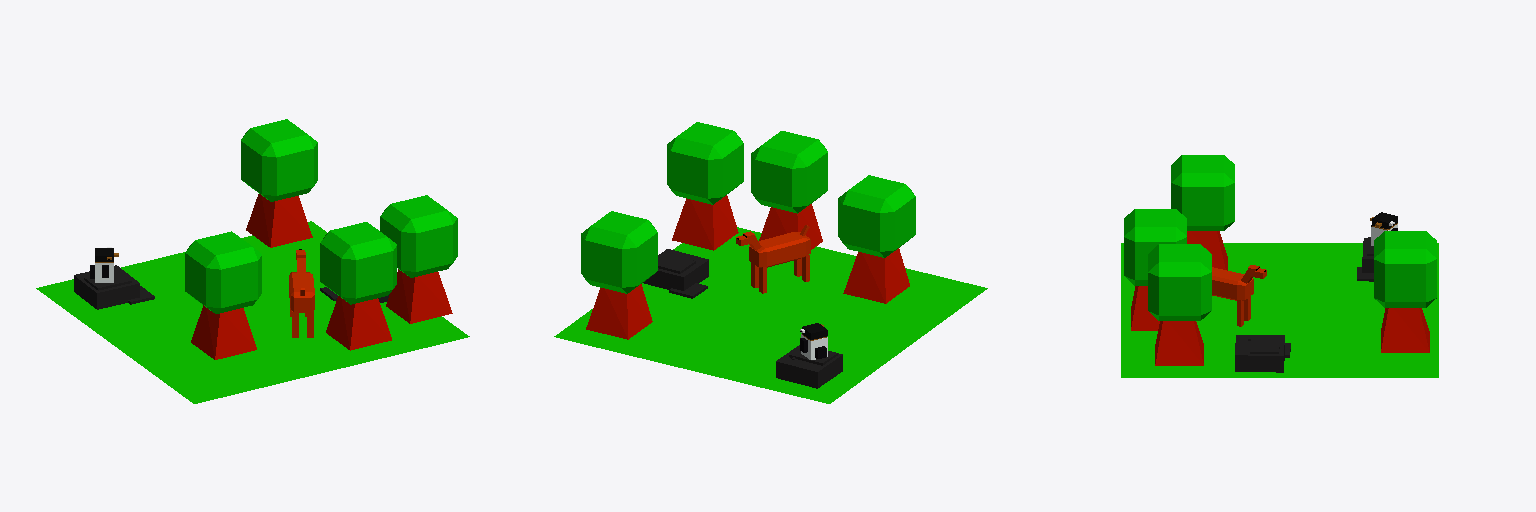
File: Escenario.obj
3 renders of one model, left to right at view 1: azimuth 30°, elevation 25°; view 2: azimuth 150°, elevation 25°; view 3: azimuth 270°, elevation 25°, orthographic.
Parts seen in each view (by area): view 1: Plane, Hojas.003, Hojas.002, Hojas, Hojas.001, Tronco, Tronco.002, Tronco.003, Tronco.001, Cube, CuerpoPerro; view 2: Plane, Hojas, Hojas.001, Hojas.002, Hojas.003, Tronco.002, Tronco, Tronco.001, Cube, Cube.020, CuerpoPerro, Tronco.003; view 3: Plane, Hojas.001, Hojas.002, Hojas, Hojas.003, Tronco.002, Tronco.001, Cube.020, CuerpoPerro, Tronco.003, Tronco.
Part boxes in pixels (x1,y1,x2,y2): Plane: (36, 221, 469, 403); Hojas.003: (320, 222, 396, 304); Hojas.002: (241, 119, 317, 201); Hojas: (185, 231, 261, 313); Hojas.001: (380, 195, 457, 277); Tronco: (191, 305, 256, 359); Tronco.002: (246, 194, 312, 247); Tronco.003: (326, 296, 391, 350); Tronco.001: (386, 269, 452, 323); Cube: (74, 265, 139, 309); CuerpoPerro: (289, 272, 314, 312); Plane: (554, 227, 987, 403); Hojas: (838, 175, 915, 257); Hojas.001: (667, 122, 743, 204); Hojas.002: (581, 211, 657, 293); Hojas.003: (751, 131, 827, 213); Tronco.002: (586, 284, 652, 339); Tronco: (843, 248, 909, 303); Tronco.001: (672, 195, 738, 250); Cube: (776, 345, 842, 388); Cube.020: (643, 249, 708, 290); CuerpoPerro: (749, 232, 810, 267); Tronco.003: (759, 204, 822, 249); Plane: (1121, 243, 1438, 377); Hojas.001: (1148, 244, 1211, 320); Hojas.002: (1374, 231, 1436, 307); Hojas: (1171, 155, 1234, 230); Hojas.003: (1124, 209, 1186, 285); Tronco.002: (1381, 308, 1429, 352); Tronco.001: (1155, 321, 1203, 365); Cube.020: (1235, 335, 1284, 372); CuerpoPerro: (1212, 267, 1253, 300); Tronco.003: (1131, 286, 1159, 330); Tronco: (1187, 231, 1227, 270).
Size of the model in its own units: 13.26 by 5.2 by 12.92.